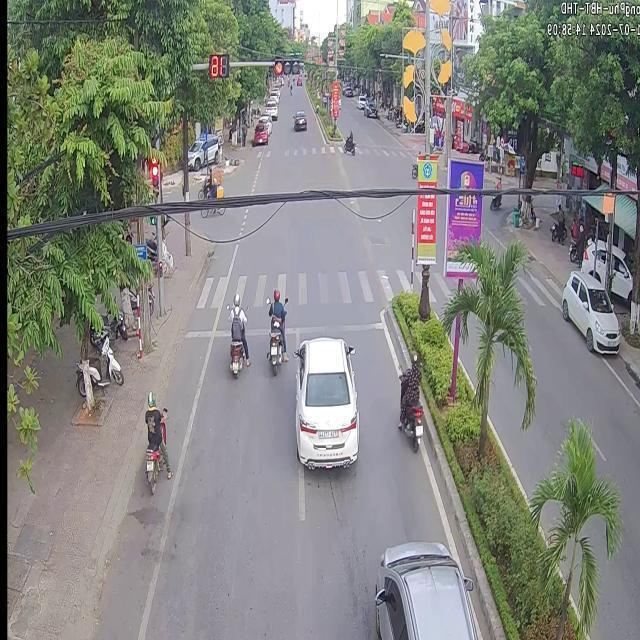car: (373, 540, 474, 638), (292, 336, 357, 467), (559, 269, 618, 351)
motobike: (143, 389, 170, 490), (397, 351, 422, 449), (226, 291, 248, 376), (266, 316, 283, 374)
red_light: (273, 57, 299, 73), (208, 55, 228, 74), (151, 153, 159, 196)
stop_line: (284, 317, 388, 333), (184, 329, 210, 336), (213, 327, 229, 336), (244, 325, 258, 334)
